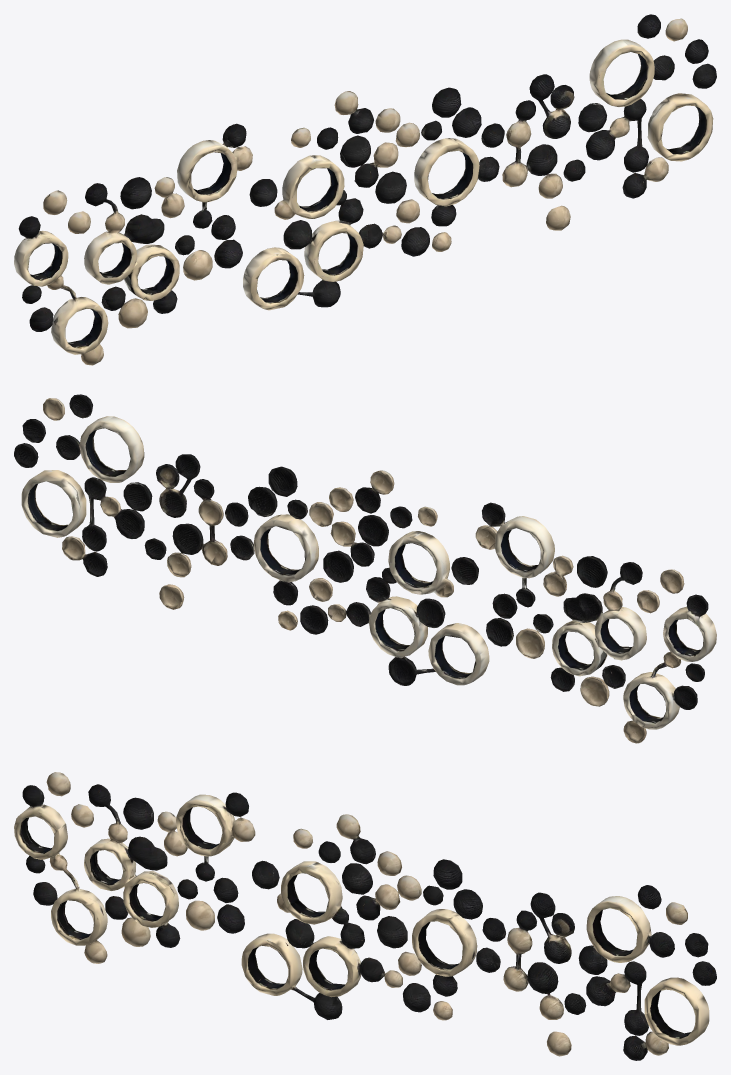
Rendered from Dark CircleWall Deco.glb.
3 renders of one model, top to bottom at view 1: azimuth 30°, elevation 25°; view 2: azimuth 150°, elevation 25°; view 3: azimuth 330°, elevation 25°, orthographic.
Visible parts, largest first — view 1: Mesh_0.001; view 2: Mesh_0.001; view 3: Mesh_0.001.
Boxes of the visible parts, left/top/right/bottom form: Mesh_0.001: left=14, top=14, right=716, bottom=365; Mesh_0.001: left=14, top=394, right=716, bottom=743; Mesh_0.001: left=14, top=772, right=716, bottom=1060.
Size of the model in its own units: 0.1026 by 0.03 by 0.00224.
Materials: 1 (1 with a texture image).
